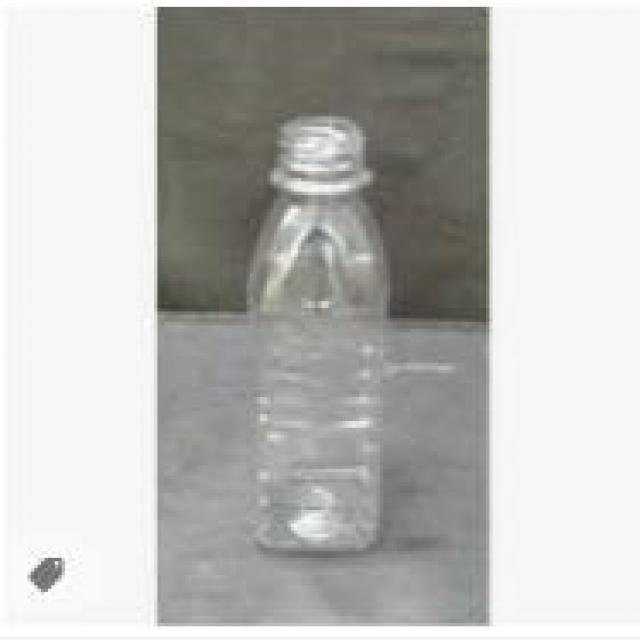bottle: (241, 101, 406, 569)
